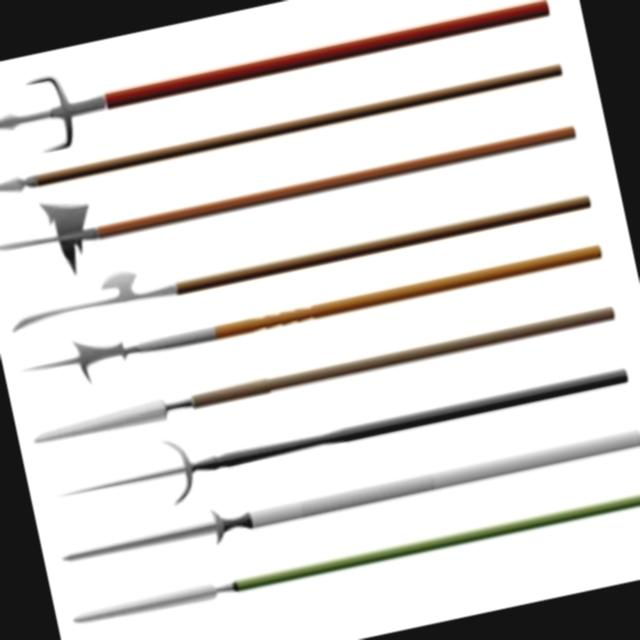spear: (0, 155, 605, 354), (0, 87, 588, 286), (23, 284, 626, 476), (56, 340, 636, 532), (48, 415, 640, 596), (9, 231, 607, 403), (0, 0, 564, 171), (61, 476, 640, 640), (0, 54, 572, 203)
